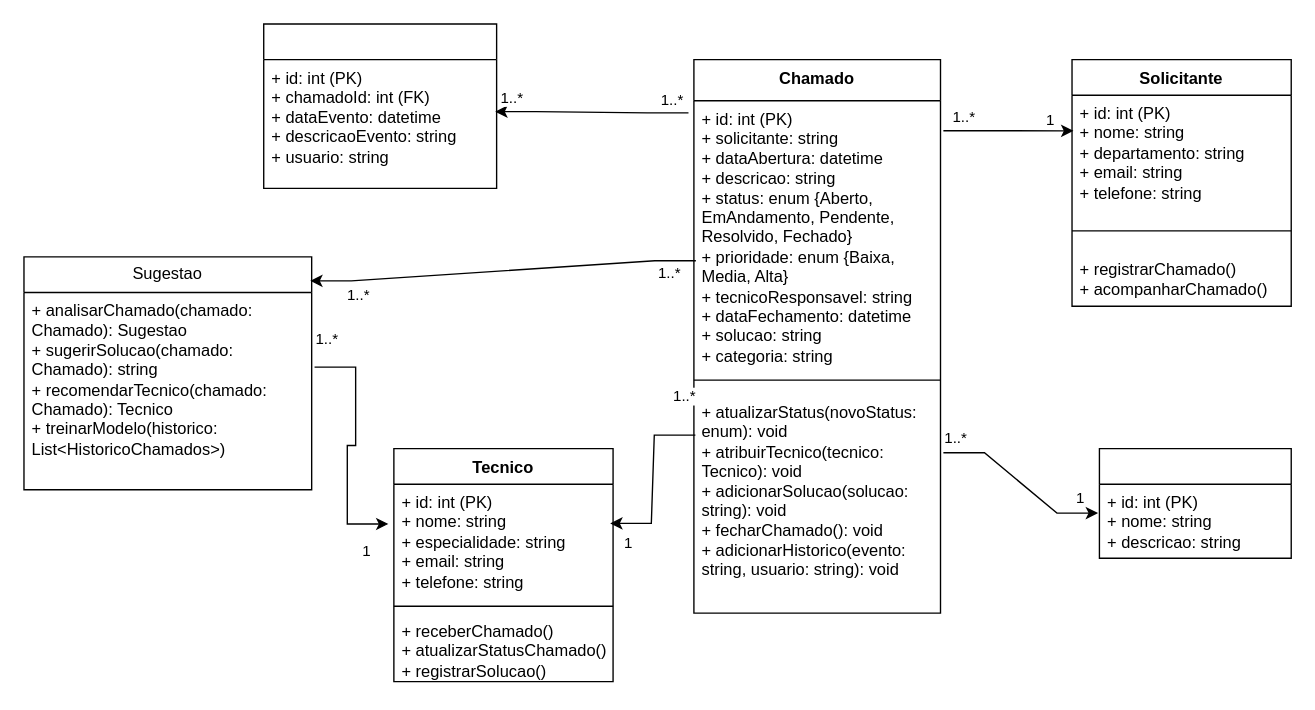
Some shapes in this 1315 by 710 pixel diagram are drawn without their labels. The box of each missing label's shape, as (x1, y1, x2, y2) in pixels:
Categoria: (1098, 447, 1291, 558)
HistoricoChamados: (262, 23, 497, 188)
